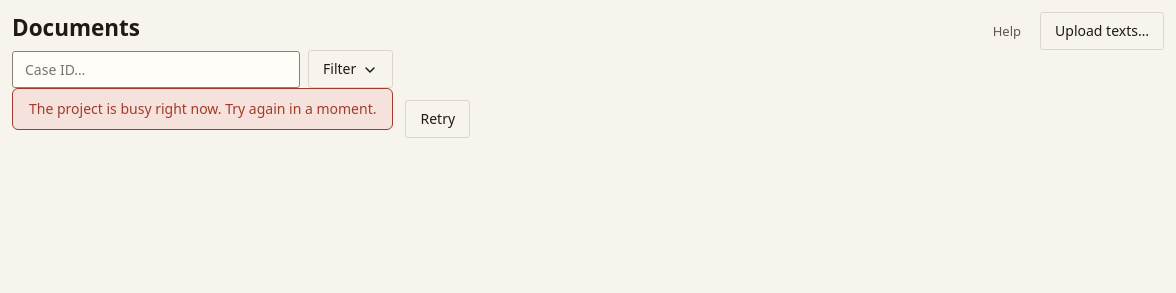
Test: shows a busy project once on the first load and reloads the page data with Retry (#217)
The image size is (1176, 293).
expect the text "The project is busy right now. Try again in a moment." is shown once: met, box [29,99,376,119]
What coordinates should you click on to do the following:
click the button "Retry"
I would click on:
 (438, 119)
Its box is [406,100,470,138].
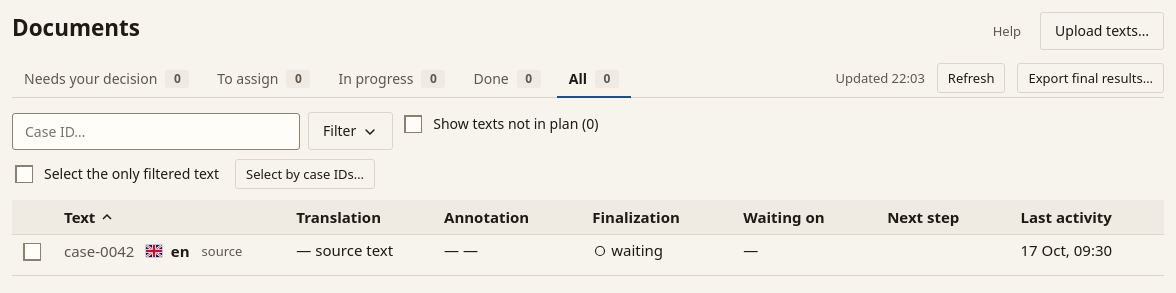
expect the table named "Documents" is shown: met, box [12,200,1164,276]
expect the text "The project is busy right now. Try again in a moment." is gone: met
